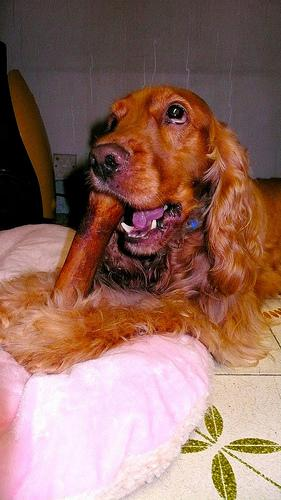dog-english_cocker_spaniel: (87, 85, 265, 292)
